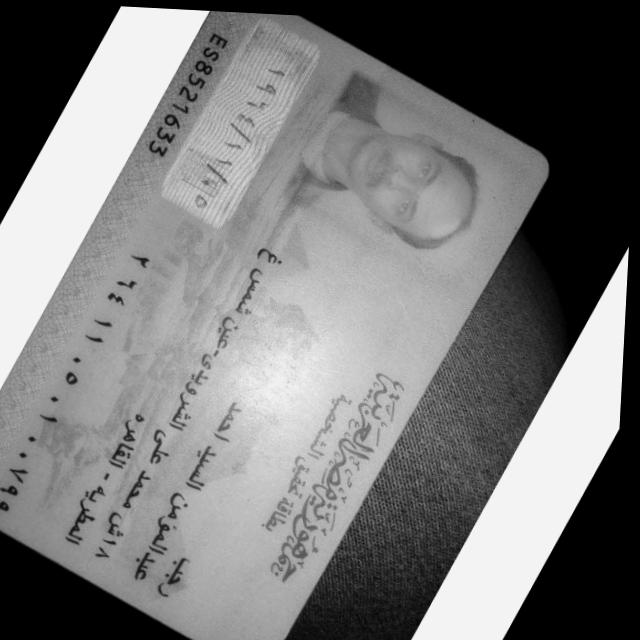front: (0, 11, 548, 640)
